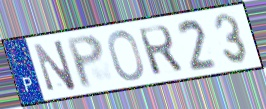2: (176, 18, 218, 73)
3: (214, 12, 249, 67)
N: (31, 37, 79, 94)
O: (106, 29, 146, 83)
P: (64, 32, 106, 90)
R: (135, 23, 185, 78)
